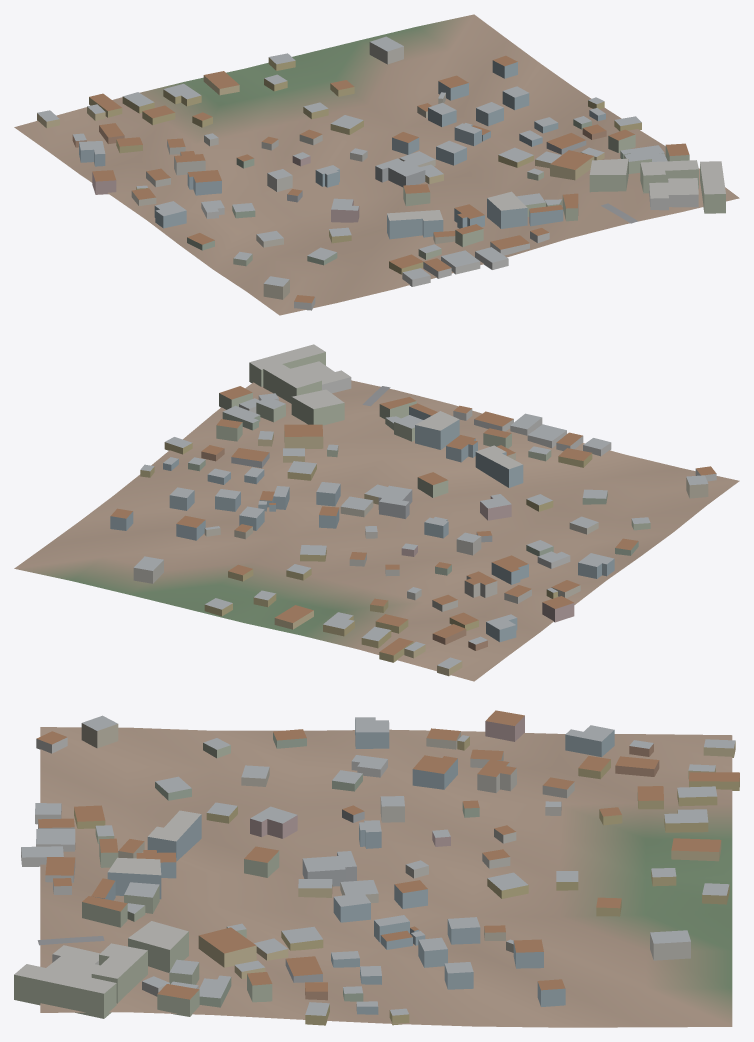
3 renders of one model, top to bottom at view 1: azimuth 30°, elevation 25°; view 2: azimuth 150°, elevation 25°; view 3: azimuth 270°, elevation 25°, orthographic. The views are drawn at different scales.
Visible parts, largest first — view 1: Lo; view 2: Lo; view 3: Lo.
Boxes of the visible parts, x1,y1,x2,y2 form: Lo: (14, 14, 739, 315); Lo: (14, 344, 739, 681); Lo: (14, 710, 739, 1027).
Size of the model in its own units: 265 by 16.79 by 269.
